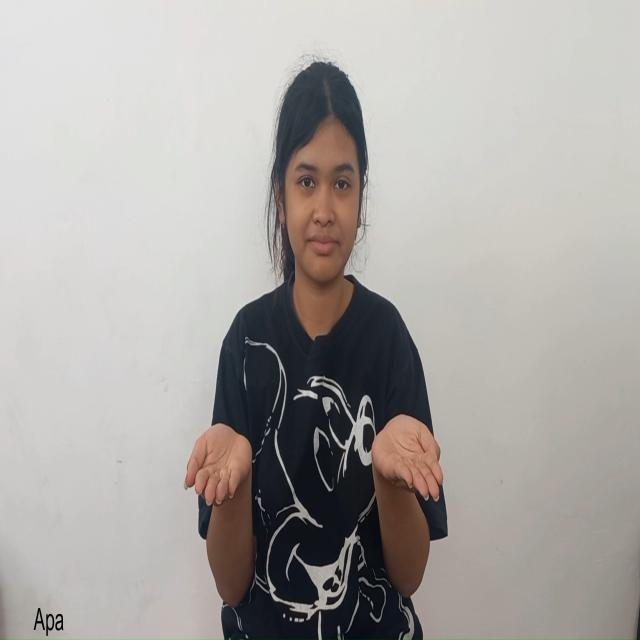Apa -BISINDO-: (168, 390, 460, 619)
